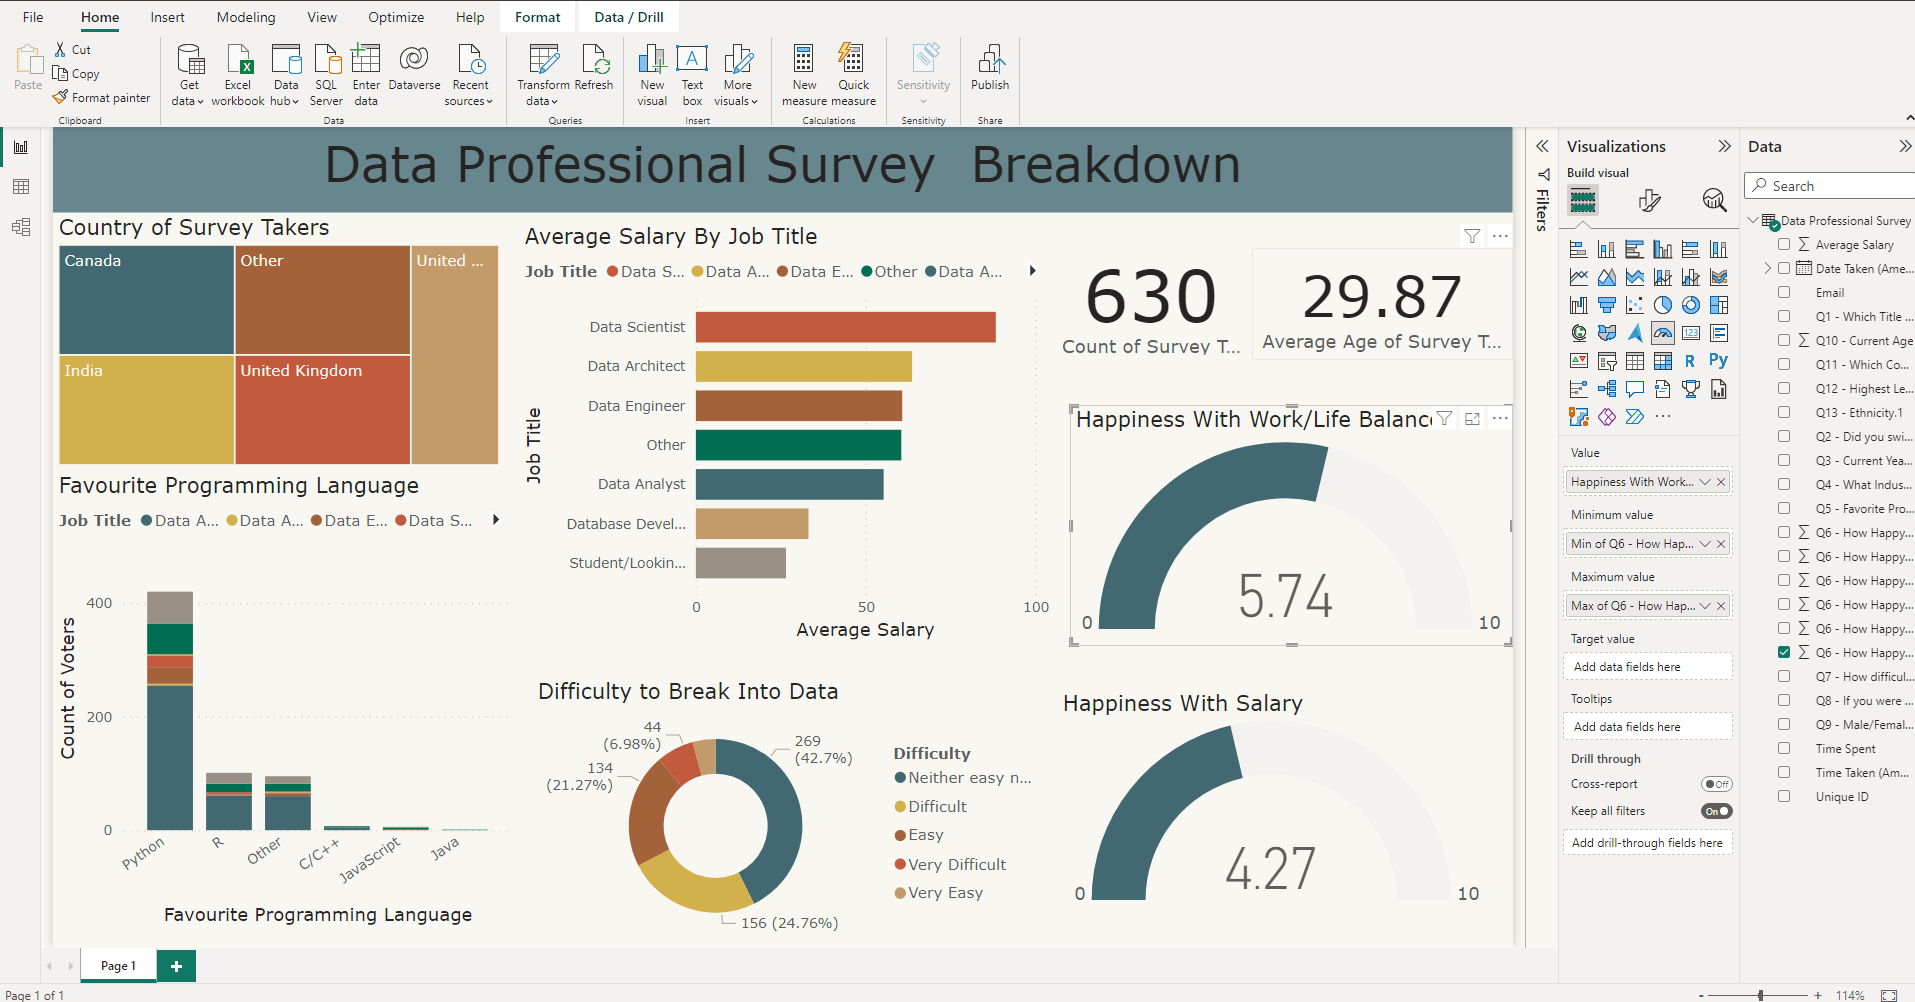

Layout of this report page (visuals, bound fields, positions):
{"tool":"powerbi","page":{"name":"Page 1","canvas":[1280,720],"ordinal":0},"visuals":[{"type":"textbox","box":[10,290,280,280],"z":0},{"type":"textbox","box":[0,0,1280,74.9],"z":1000},{"type":"card","fields":{"Values":["Avg(Data Professional Survey.Q10 - Current Age)"]},"box":[1051.6,106,228.4,98.8],"z":2000},{"type":"card","fields":{"Values":["Count(Data Professional Survey.Unique ID)"]},"box":[875.6,101.9,175.9,102.9],"z":3000},{"type":"barChart","title":"Average Salary By Job Title","fields":{"Category":["Data Professional Survey.Q1 - Which Title Best Fits your Current Role?.1"],"Y":["Avg(Data Professional Survey.Average Salary)"],"Series":["Data Professional Survey.Q1 - Which Title Best Fits your Current Role?.1"]},"box":[408.5,83.3,470.2,371.4],"z":4000},{"type":"columnChart","title":"Favourite Programming Language","fields":{"Category":["Data Professional Survey.Q5 - Favorite Programming Language.1"],"Series":["Data Professional Survey.Q1 - Which Title Best Fits your Current Role?.1"],"Y":["CountNonNull(Data Professional Survey.Unique ID)"]},"box":[0,301.5,408.5,403.3],"z":5000},{"type":"gauge","title":"Happiness With Work/Life Balance","fields":{"Y":["Avg(Data Professional Survey.Q6 - How Happy are you in your Current Position with the following? (Work/Life Balance))"],"MinValue":["Min(Data Professional Survey.Q6 - How Happy are you in your Current Position with the following? (Work/Life Balance))1"],"MaxValue":["Max(Data Professional Survey.Q6 - How Happy are you in your Current Position with the following? (Work/Life Balance))2"]},"box":[892.1,243.9,387.9,210.9],"z":6000},{"type":"gauge","title":"Happiness With Salary","fields":{"Y":["Avg(Data Professional Survey.Q6 - How Happy are you in your Current Position with the following? (Salary))"],"MinValue":["Min(Data Professional Survey.Q6 - How Happy are you in your Current Position with the following? (Salary))"],"MaxValue":["Max(Data Professional Survey.Q6 - How Happy are you in your Current Position with the following? (Salary))"]},"box":[880.8,492.9,385.9,195.5],"z":7000},{"type":"treemap","title":"Country of Survey Takers","fields":{"Group":["Data Professional Survey.Q11 - Which Country do you live in?.1"],"Values":["Count(Data Professional Survey.Q11 - Which Country do you live in?.1)"]},"box":[0,75.1,396.1,226.4],"z":8000},{"type":"donutChart","title":"Difficulty to Break Into Data","fields":{"Category":["Data Professional Survey.Q7 - How difficult was it for you to break into Data?"],"Y":["CountNonNull(Data Professional Survey.Q7 - How difficult was it for you to break into Data?)"]},"box":[419.8,482.6,455.8,237.7],"z":9000}]}

Visuals, with their boxes on the page's 1280x720 design canvas (x1, y1, x2, y2). These are canvas units, not pixel positions in the 1915x1002 screenshot, which may show the page scaled, cropped or inside an application window:
textbox: bbox=[10, 290, 290, 570]
textbox: bbox=[0, 0, 1280, 75]
card - Avg(Data Professional Survey.Q10 - Current Age): bbox=[1052, 106, 1280, 205]
card - Count(Data Professional Survey.Unique ID): bbox=[876, 102, 1052, 205]
"Average Salary By Job Title" barChart: bbox=[408, 83, 879, 455]
"Favourite Programming Language" columnChart: bbox=[0, 302, 408, 705]
"Happiness With Work/Life Balance" gauge: bbox=[892, 244, 1280, 455]
"Happiness With Salary" gauge: bbox=[881, 493, 1267, 688]
"Country of Survey Takers" treemap: bbox=[0, 75, 396, 302]
"Difficulty to Break Into Data" donutChart: bbox=[420, 483, 876, 720]
